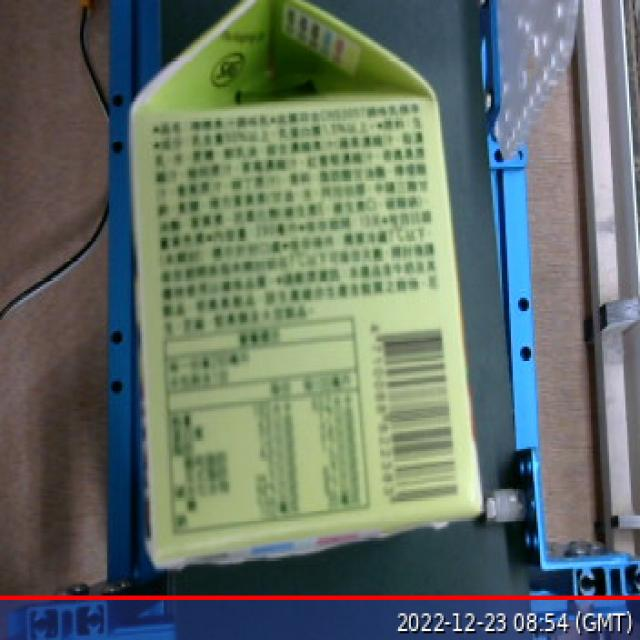non_white_jug: (96, 0, 491, 572)
